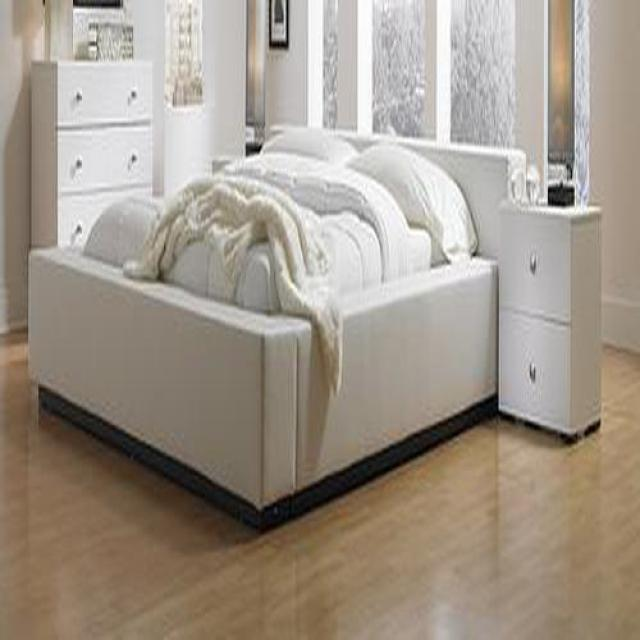bed: (27, 131, 507, 534)
table: (498, 206, 602, 439)
